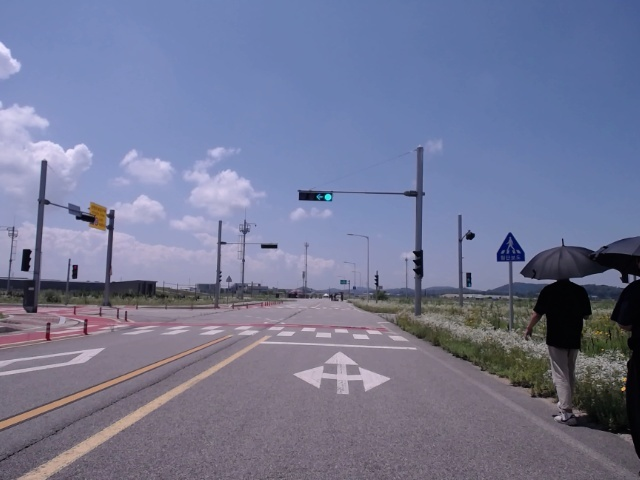all_green_4: (298, 190, 332, 201)
